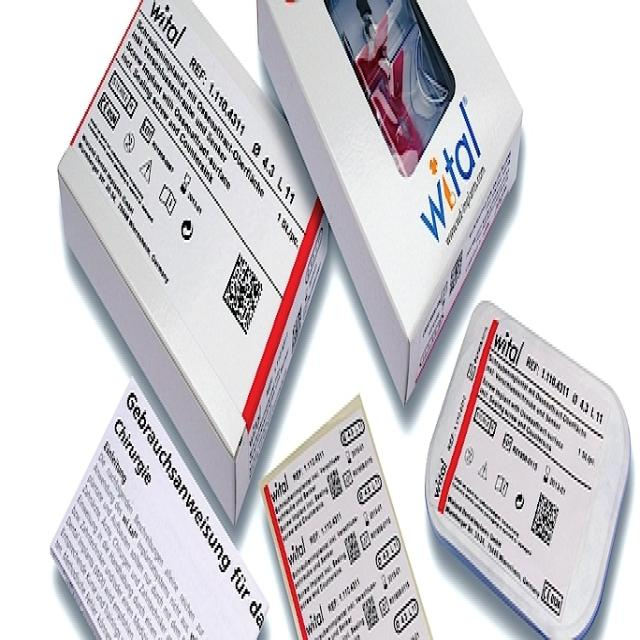datamatrix: (218, 240, 269, 342), (528, 475, 563, 560)
